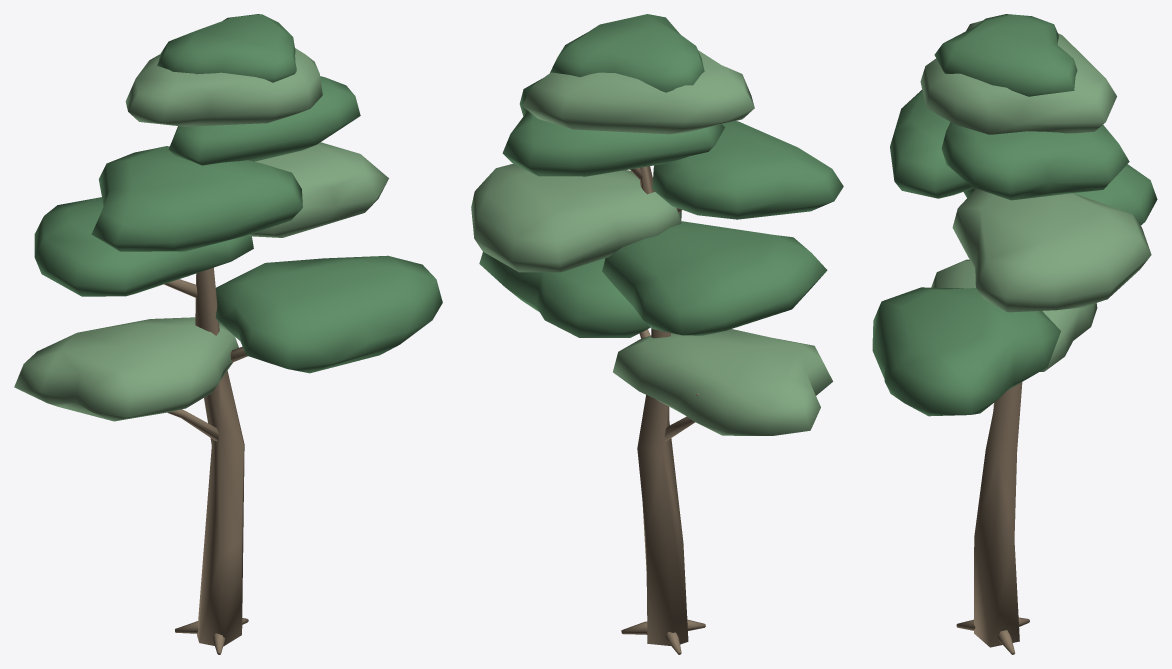
Rendered from ENV_CoastalPine_LOD1.fbx.
The picture shows the model from 3 angles, left to right: view 1: azimuth 30°, elevation 25°; view 2: azimuth 150°, elevation 25°; view 3: azimuth 270°, elevation 25°; orthographic projection. The views are drawn at different scales.
Visible parts, largest first — view 1: ENV_CoastalPine_Root_Visual; view 2: ENV_CoastalPine_Root_Visual; view 3: ENV_CoastalPine_Root_Visual.
Part boxes in pixels (left/top/right/bottom): ENV_CoastalPine_Root_Visual: left=14, top=14, right=442, bottom=654; ENV_CoastalPine_Root_Visual: left=471, top=14, right=843, bottom=654; ENV_CoastalPine_Root_Visual: left=872, top=14, right=1157, bottom=654.
Size of the model in its own units: 300 by 461 by 192.
